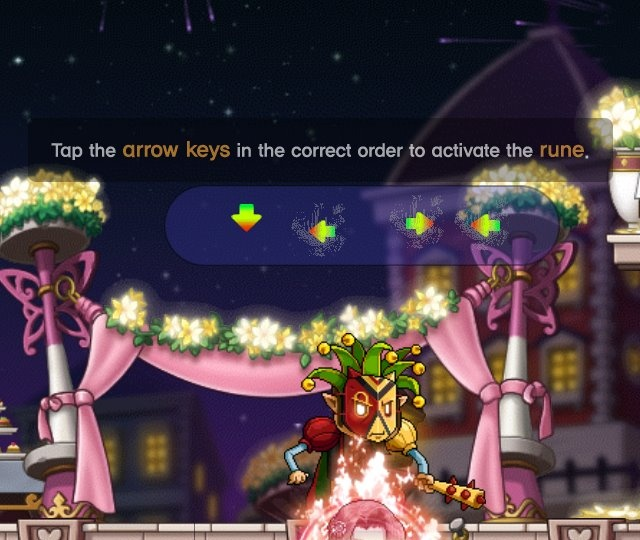down: (222, 196, 268, 243)
left: (301, 213, 346, 253), (466, 208, 506, 242)
right: (400, 207, 440, 245)
